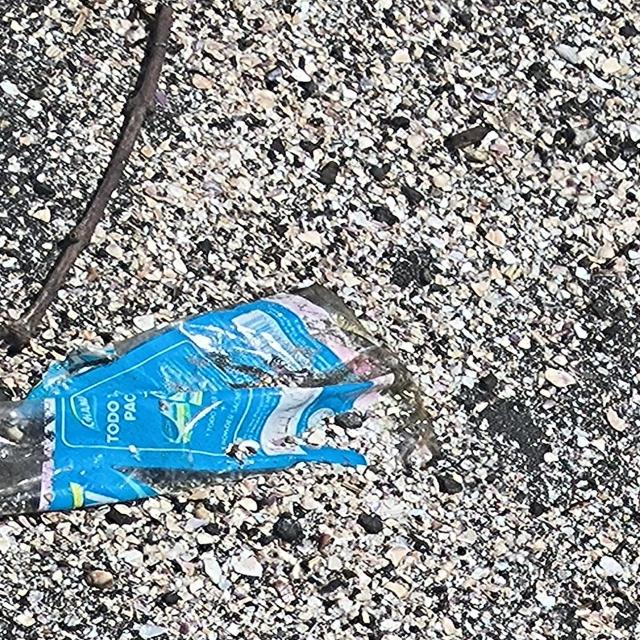plastic_waste: (1, 292, 397, 518)
